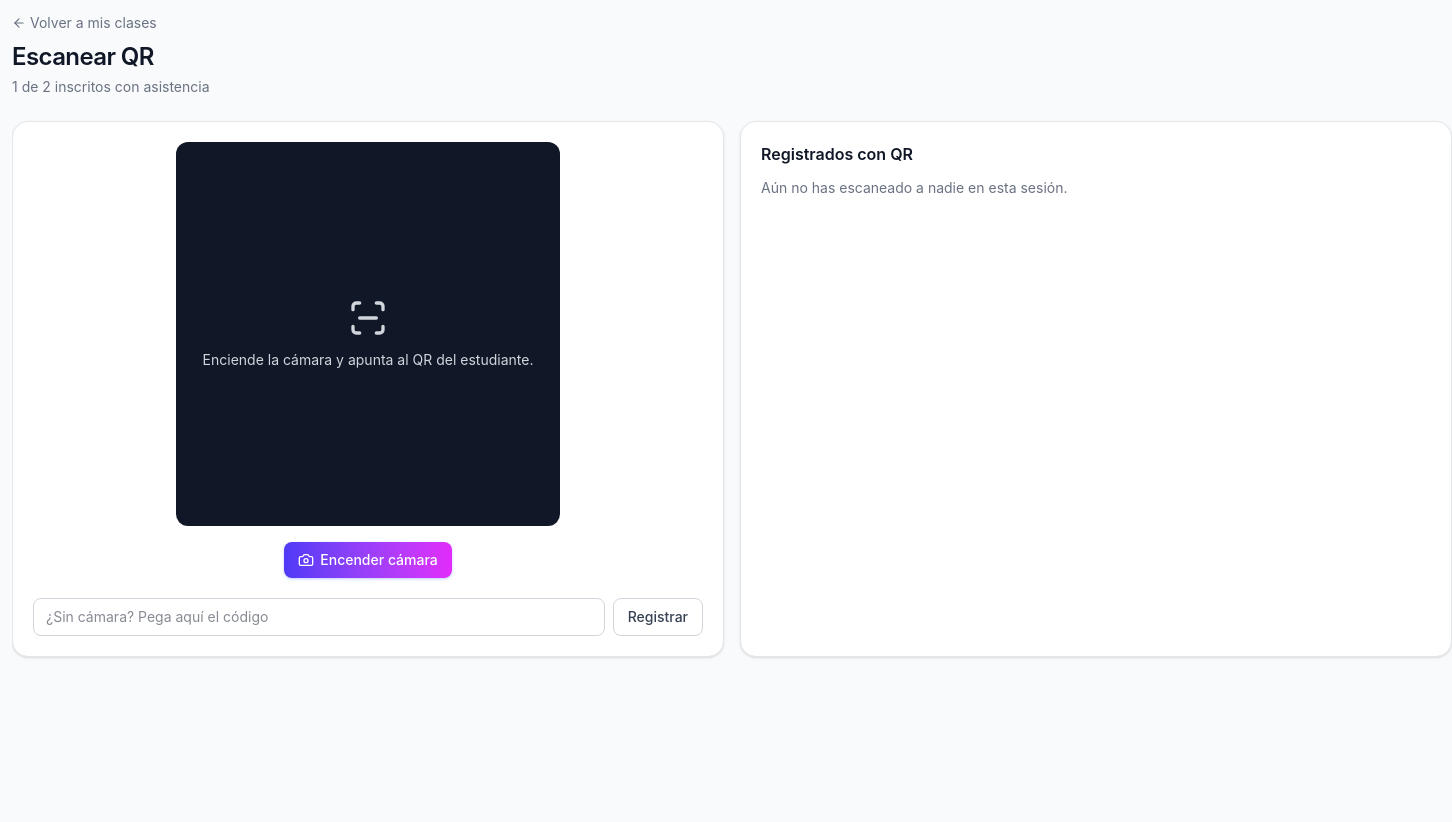
Asistencia con QR: pantalla del profesor › CP-171 · un código pegado a mano se envía a la API y el estudiante aparece como registrado
Expected: the text "1 de 2 inscritos con asistencia" is shown, [12,77,210,97]
Step 1. Type "codigo-firmado" into the field named "Código QR" → (319, 617), box [33,598,605,636]
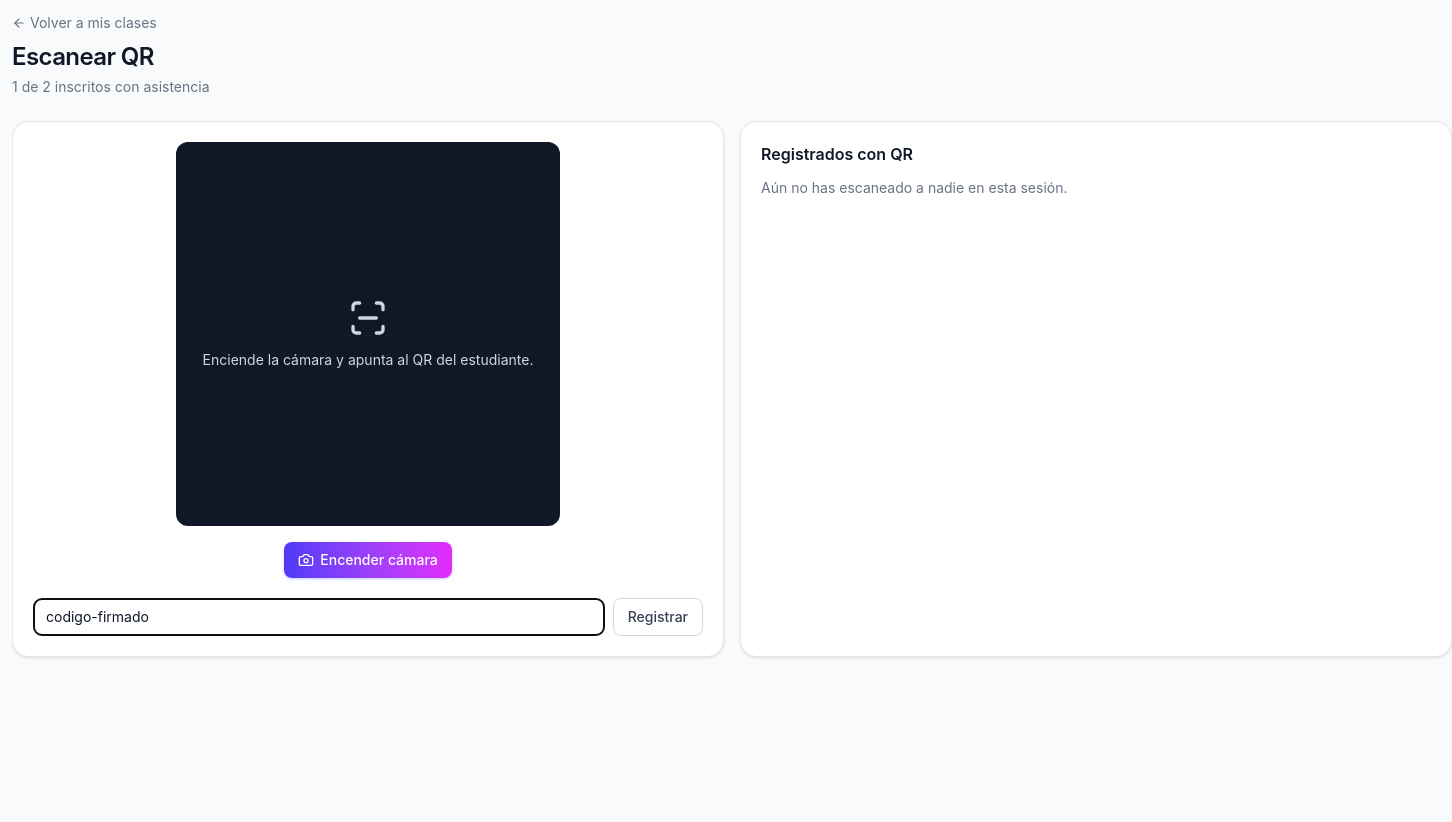
Step 2. Click the button "Registrar" → (658, 617), box [613,598,703,636]
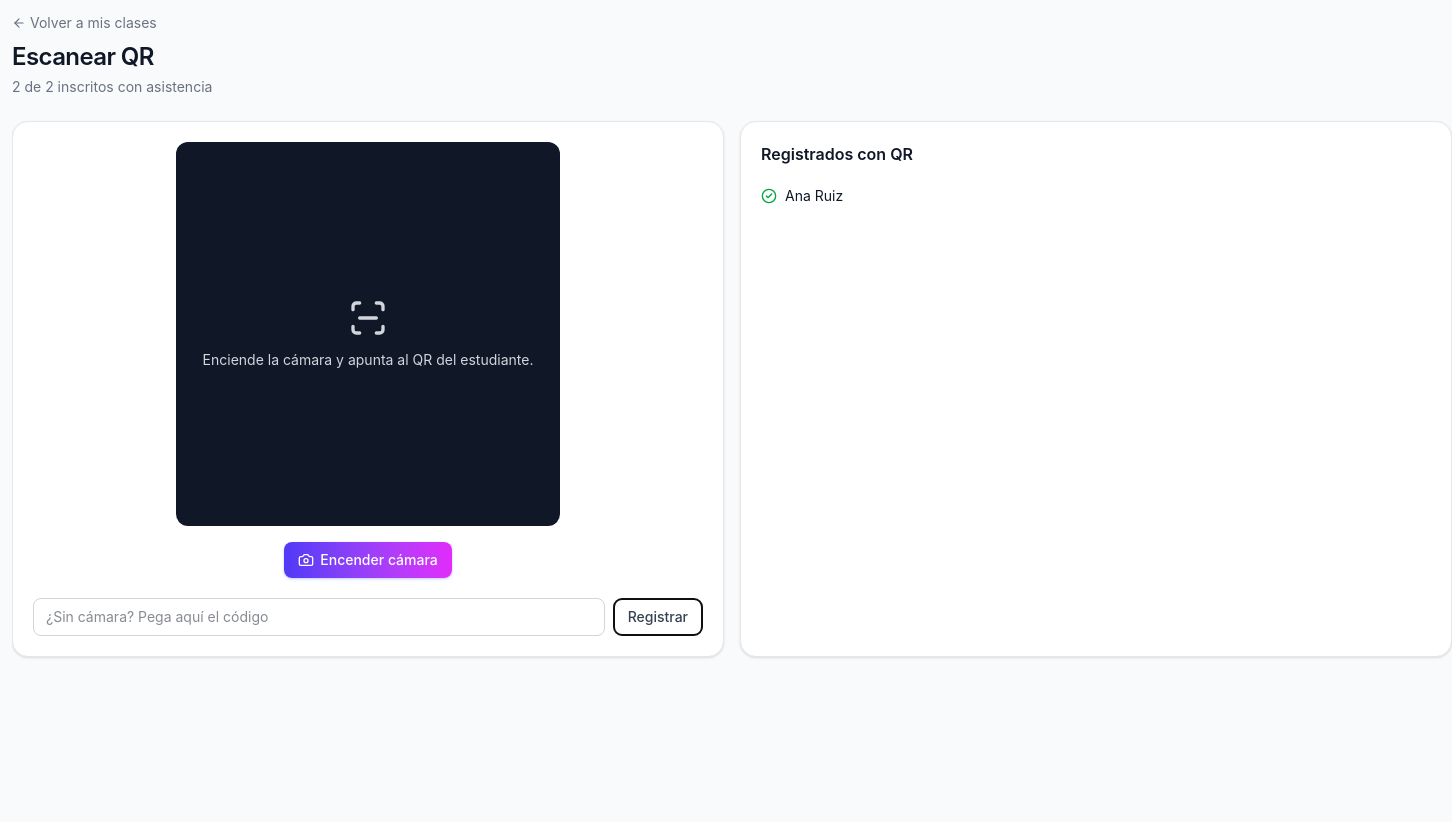
Expected: the list item "Ana Ruiz" is shown, [761,187,843,204]
Expected: the text "2 de 2 inscritos con asistencia" is shown, [12,77,212,97]
